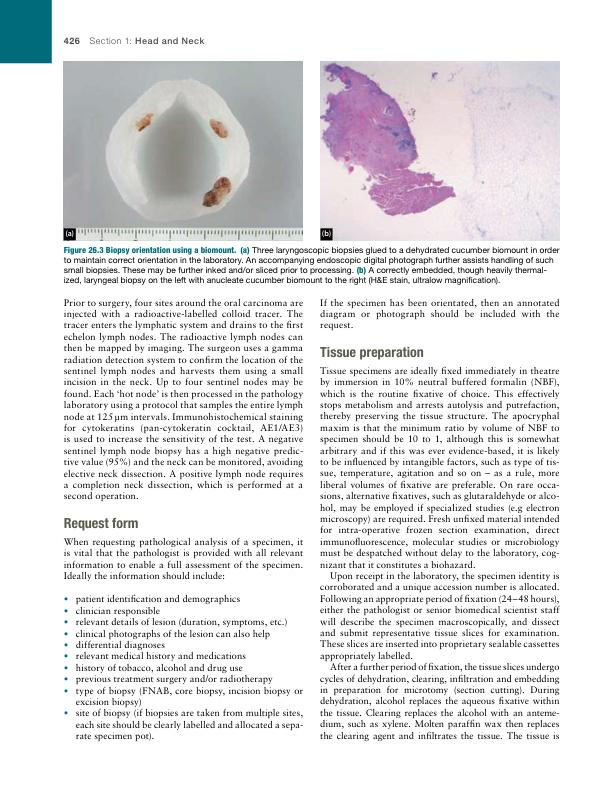caption: (63, 245, 560, 286), (65, 228, 75, 239), (321, 229, 331, 238)
header: (89, 36, 206, 46)
image: (319, 60, 561, 242), (62, 60, 303, 240)
list: (63, 593, 305, 743)
sub-section-heading: (319, 346, 425, 361), (63, 517, 139, 532)
text: (319, 366, 560, 742), (63, 297, 304, 503), (63, 537, 304, 582), (319, 298, 560, 332)
